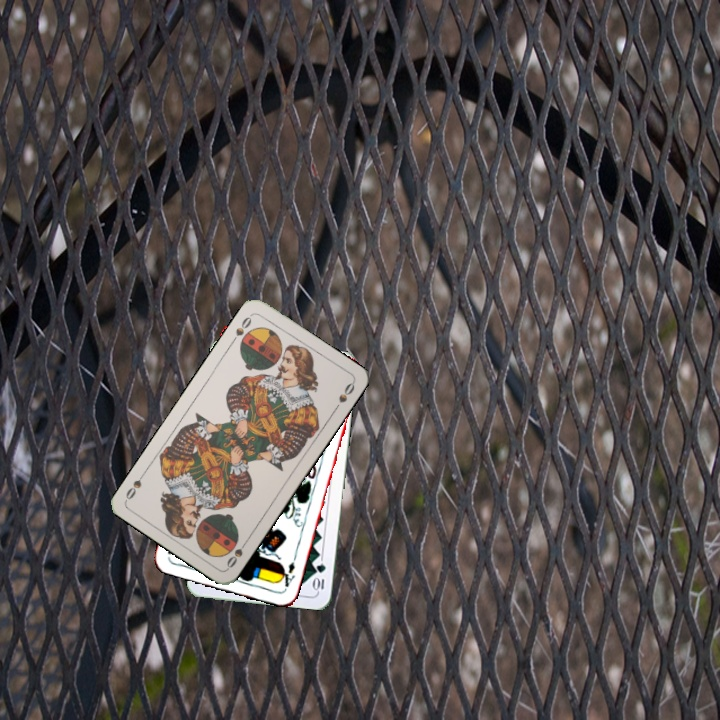EA: (276, 558, 298, 592)
G10: (311, 559, 328, 594)
SO: (227, 310, 255, 348), (222, 535, 251, 571)
